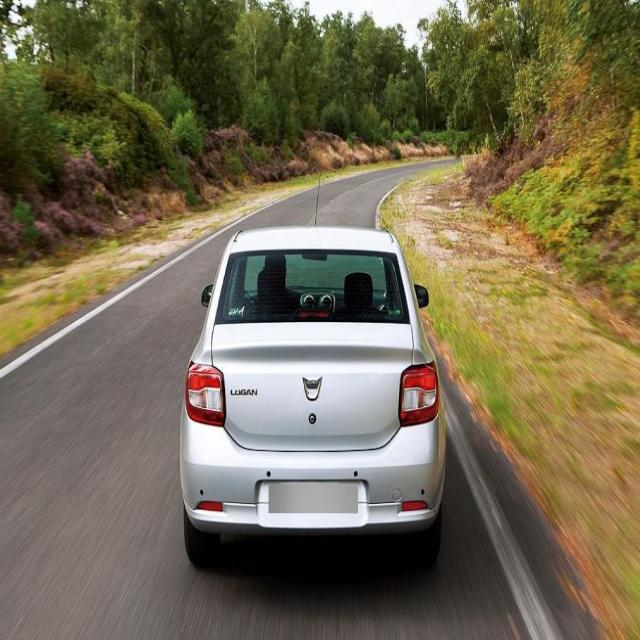back_glass: (214, 248, 410, 326)
back_left_side_light: (186, 357, 228, 428)
back_right_side_light: (399, 356, 440, 428)
front_left_side_mirror: (199, 281, 215, 310)
front_right_side_mirror: (412, 281, 430, 313)
rear_bumper: (181, 409, 447, 533)
